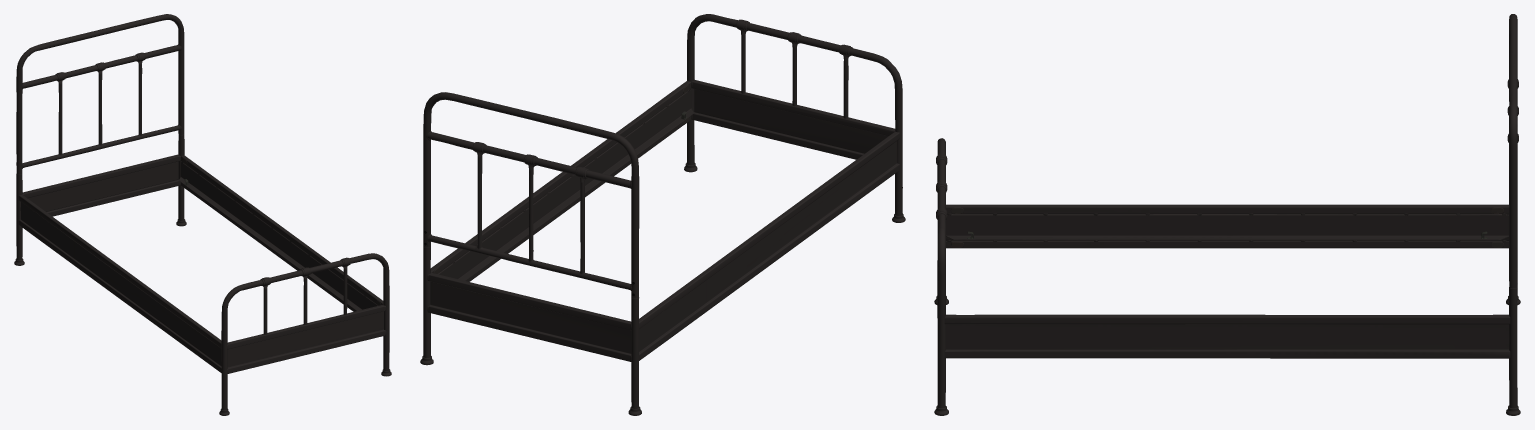
Rendered from stjarno_rama_ozka_20575365.glb.
3 views of the same model, side by side, from view 1: azimuth 30°, elevation 25°; view 2: azimuth 150°, elevation 25°; view 3: azimuth 270°, elevation 25° (orthographic). The views are drawn at different scales.
Visible parts, largest first — view 1: stjarno_rama_ozka_20575365; view 2: stjarno_rama_ozka_20575365; view 3: stjarno_rama_ozka_20575365.
Part boxes in pixels (bbox=[...]): stjarno_rama_ozka_20575365: bbox=[14, 14, 391, 415]; stjarno_rama_ozka_20575365: bbox=[420, 14, 905, 415]; stjarno_rama_ozka_20575365: bbox=[934, 14, 1520, 415].
Bounding box in the file's own units: 0.9787 × 1.17 × 2.08.
1 material, 1 textured.
